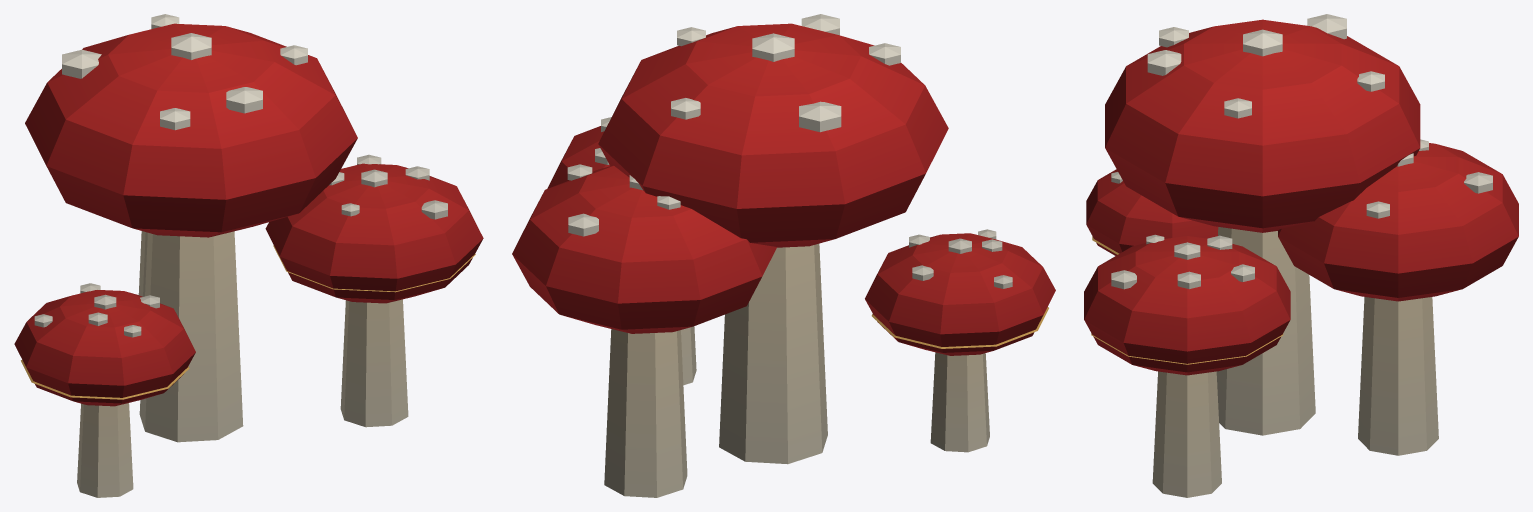
File: toadstool_cluster.glb
The picture shows the model from 3 angles, left to right: view 1: azimuth 30°, elevation 25°; view 2: azimuth 150°, elevation 25°; view 3: azimuth 270°, elevation 25°; orthographic projection. The views are drawn at different scales.
Visible parts, largest first — view 1: toadstool_cluster; view 2: toadstool_cluster; view 3: toadstool_cluster.
Part boxes in pixels (left/top/right/bottom): toadstool_cluster: left=14, top=14, right=483, bottom=497; toadstool_cluster: left=512, top=14, right=1055, bottom=497; toadstool_cluster: left=1084, top=14, right=1518, bottom=497.
Bounding box in the file's own units: 1.71 × 1.39 × 1.44.
